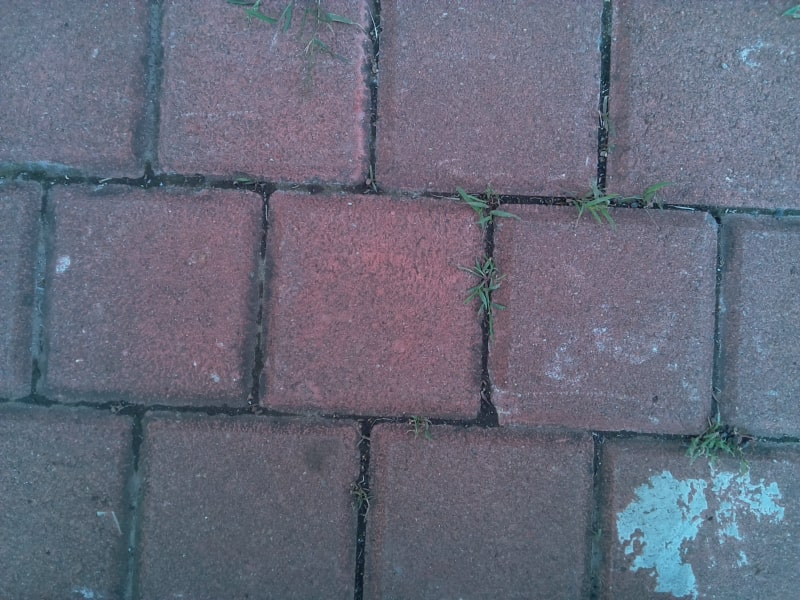Weed: (229, 4, 364, 65), (442, 178, 523, 239), (459, 254, 505, 339), (688, 412, 753, 468), (567, 185, 617, 236), (624, 182, 671, 220), (342, 473, 377, 518), (401, 406, 436, 445), (593, 92, 615, 139)
